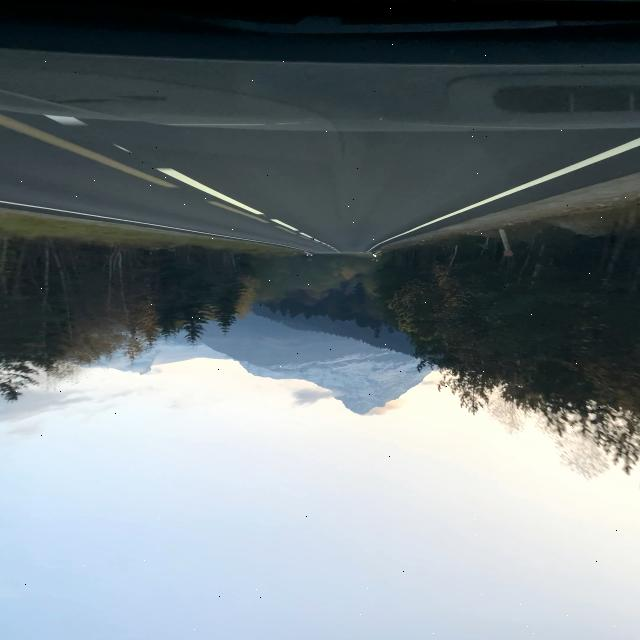lane: (372, 140, 639, 248), (158, 168, 262, 215)
road: (2, 3, 638, 254)
